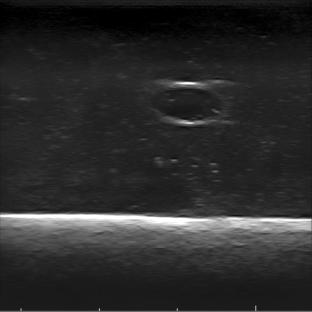vessel: (149, 81, 224, 126)
